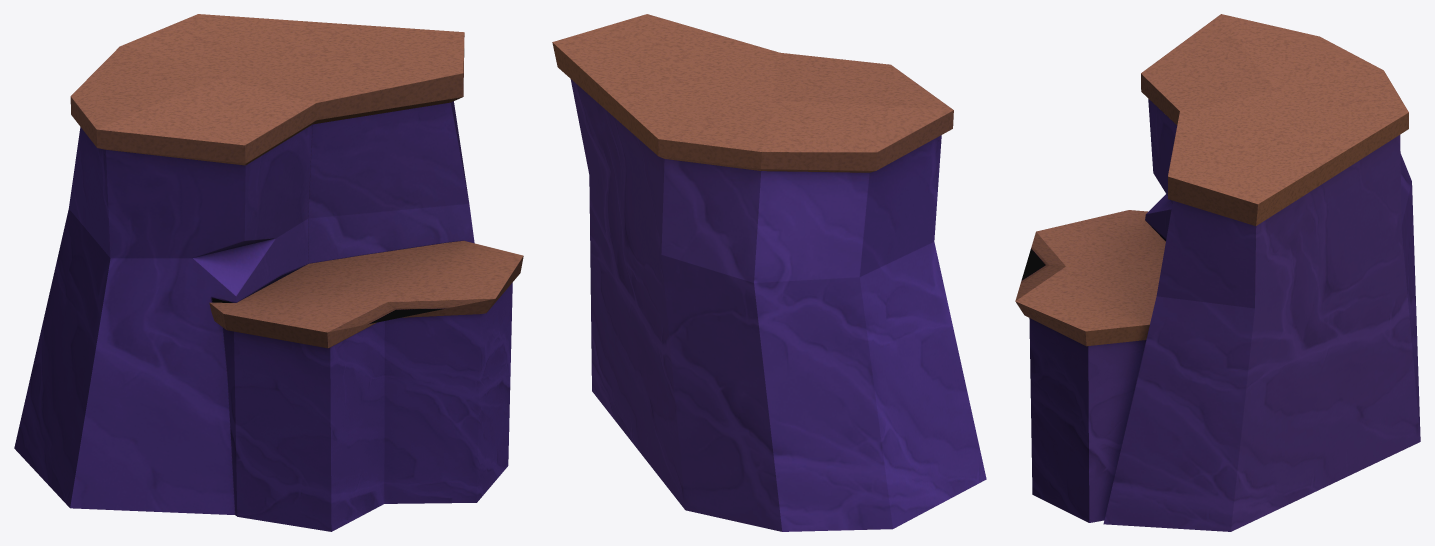
File: fantasy_asset14.gltf
The picture shows the model from 3 angles, left to right: view 1: azimuth 30°, elevation 25°; view 2: azimuth 150°, elevation 25°; view 3: azimuth 270°, elevation 25°; orthographic projection. The views are drawn at different scales.
Parts seen in each view (by area): view 1: fantasy_asset14; view 2: fantasy_asset14; view 3: fantasy_asset14.
Part boxes in pixels (x1,y1,x2,y2): fantasy_asset14: (14,14,523,531); fantasy_asset14: (552,14,986,531); fantasy_asset14: (1015,14,1420,531).
Bounding box in the file's own units: 3.12 × 2.64 × 2.76.
Materials: 1 (1 with a texture image).
